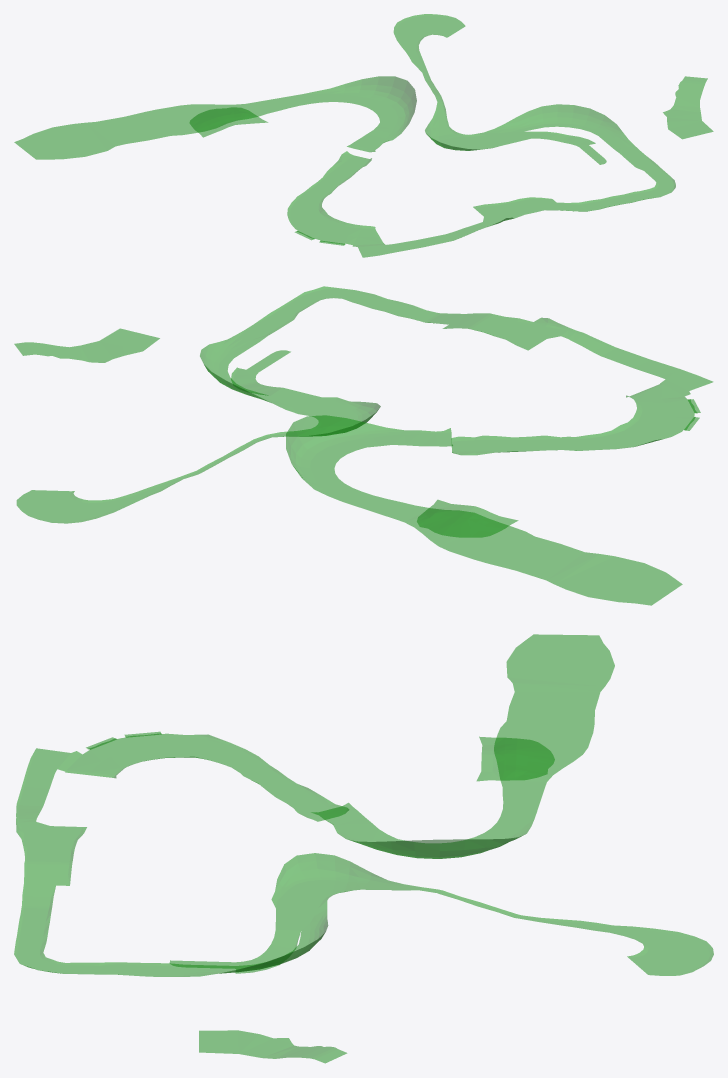
The model's file is road_sand1.obj.
3 renders of one model, top to bottom at view 1: azimuth 30°, elevation 25°; view 2: azimuth 150°, elevation 25°; view 3: azimuth 270°, elevation 25°, orthographic. The views are drawn at different scales.
Bounding box in the file's own units: 564 × 38.35 × 404.
